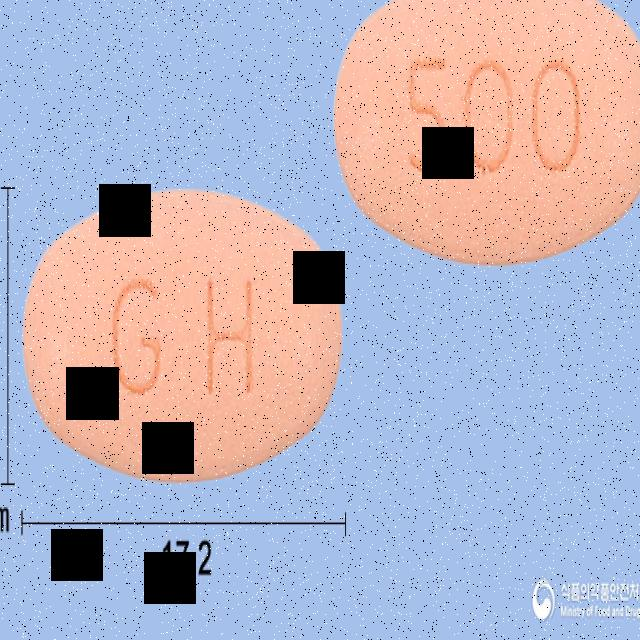Levona: (25, 189, 344, 485), (333, 0, 640, 262)
